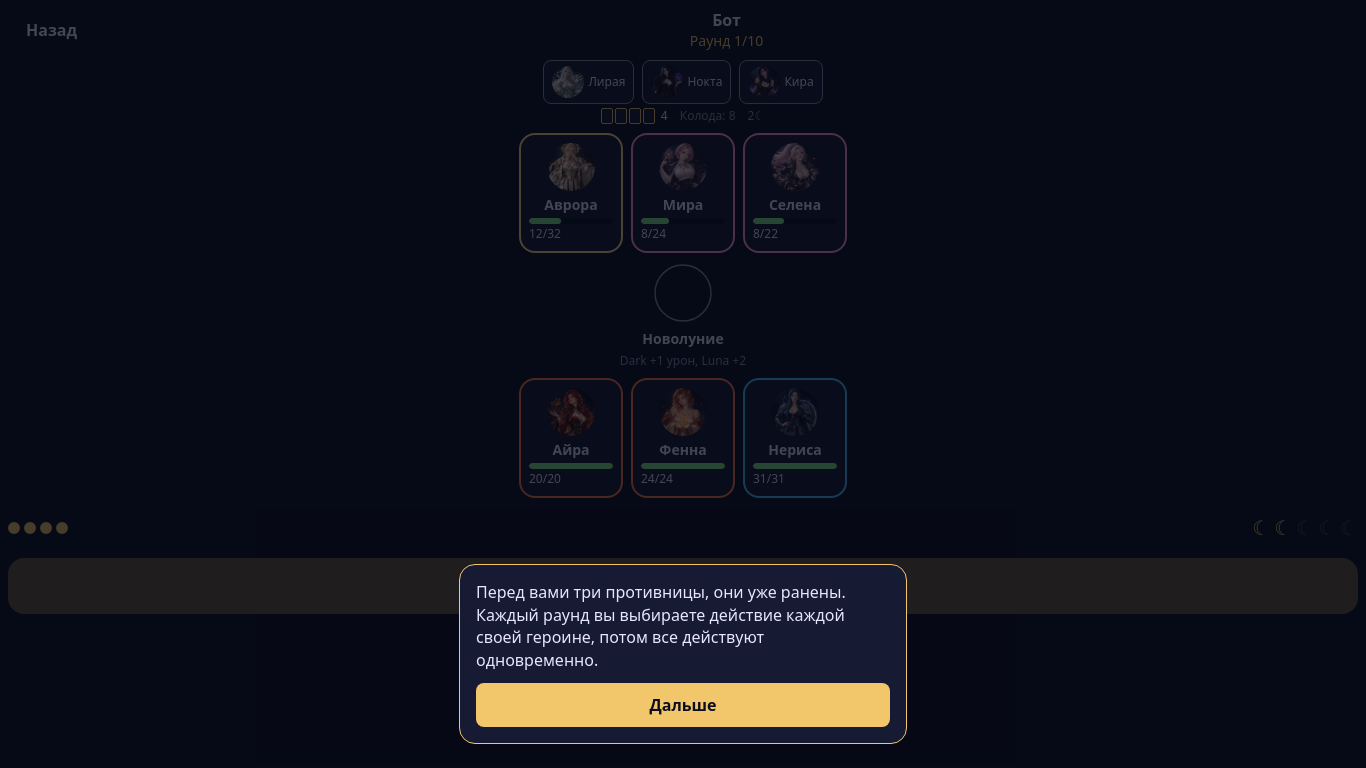
Test: экран обучения › скрывает резерв, руку, ульту, замену и журнал боя 1
The width and height of the screenshot is (1366, 768).
expect the button with test id "reserve-B-0" is shown: met, box [543,60,634,104]
Click the button "Дальше" at (683, 705), box [476,683,890,727]
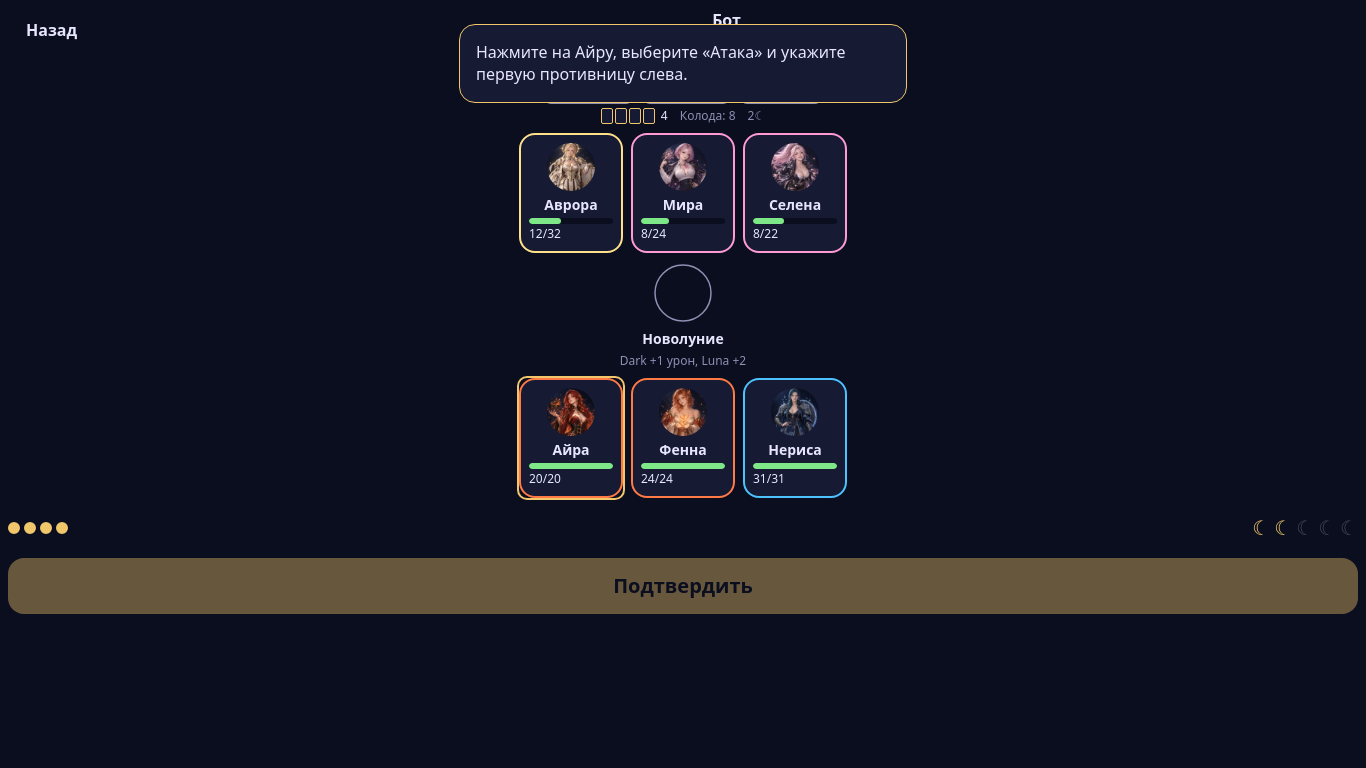
Click the button with test id "hero-A-0" at (571, 438), box [519,378,623,498]
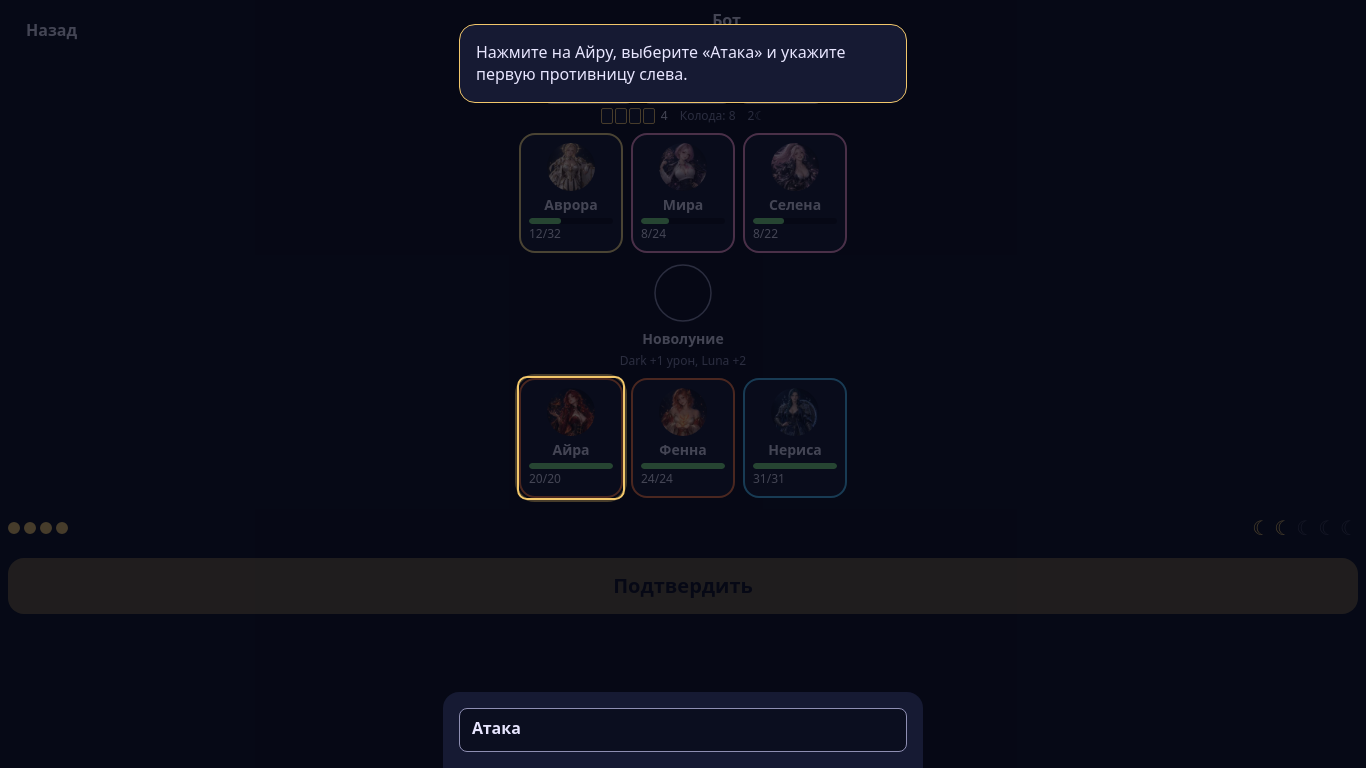
expect the button with test id "sheet-item-basic" is shown: met, box [459,708,907,752]
